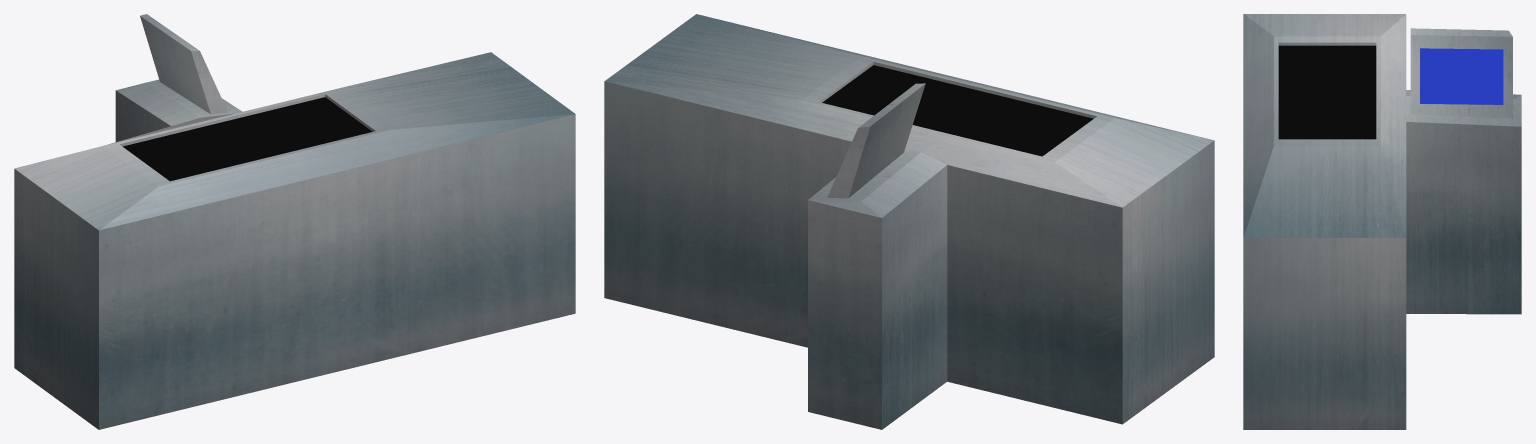
Rendered from SUPERMARKET_CHECKOUT.fbx.
3 renders of one model, left to right at view 1: azimuth 30°, elevation 25°; view 2: azimuth 150°, elevation 25°; view 3: azimuth 270°, elevation 25°, orthographic. The views are drawn at different scales.
Visible parts, largest first — view 1: SUPERMARKET_CHECKOUT; view 2: SUPERMARKET_CHECKOUT; view 3: SUPERMARKET_CHECKOUT.
Boxes of the visible parts, bbox=[...] form: SUPERMARKET_CHECKOUT: bbox=[14, 14, 575, 429]; SUPERMARKET_CHECKOUT: bbox=[604, 14, 1214, 429]; SUPERMARKET_CHECKOUT: bbox=[1243, 14, 1521, 429].
Bounding box in the file's own units: 277 × 151 × 146.
